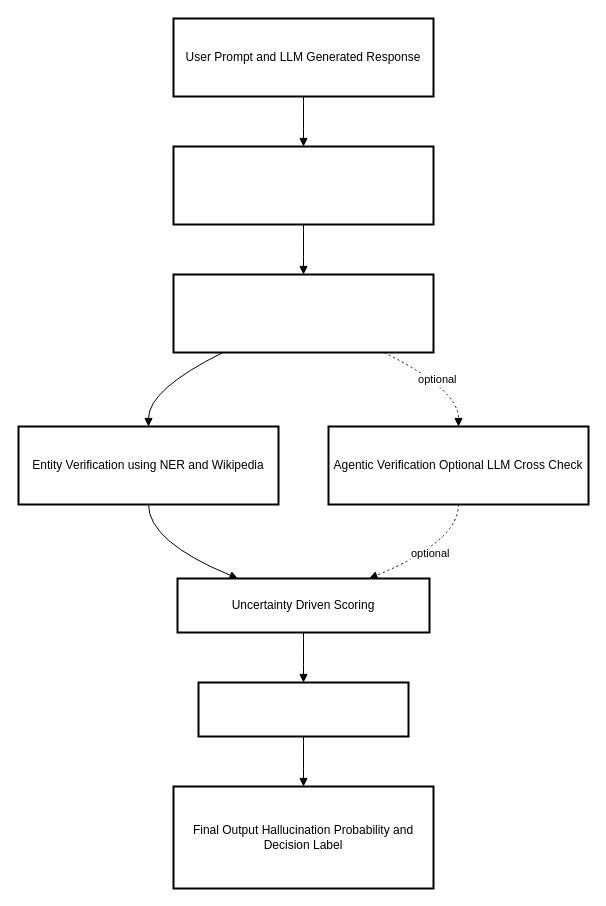
This 606x906 diagram has some shape labels left out. The shapes that lost their labels are listed below. From the top down, each one's box as (x1, y1, x2, y2) in pixels, then its label:
(172, 145, 434, 225): Text Preprocessing Cleaning and Tokenization
(172, 273, 434, 353): Transformer Based Classifier DistilBERT
(197, 681, 409, 737): Hybrid Fusion Engine
